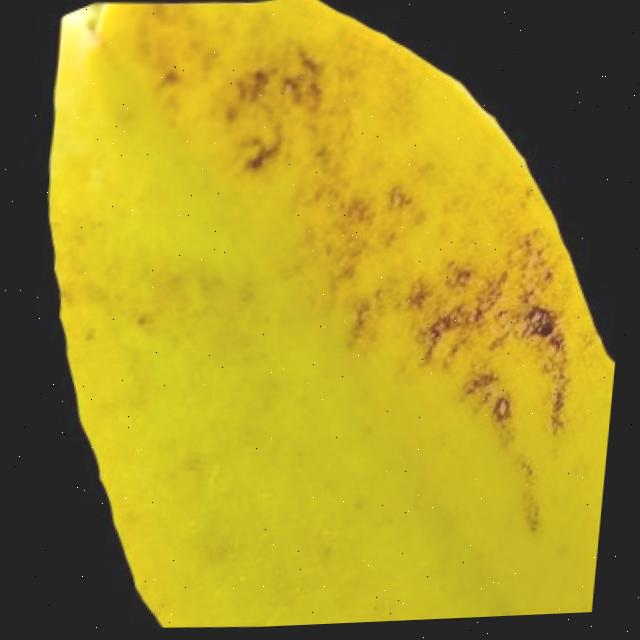mite: (456, 372, 522, 435), (343, 301, 378, 355), (228, 69, 273, 109), (238, 139, 281, 179), (459, 372, 505, 408), (524, 311, 562, 347), (403, 280, 437, 316), (342, 200, 377, 233), (443, 267, 478, 295), (491, 398, 518, 431), (385, 189, 416, 215)
